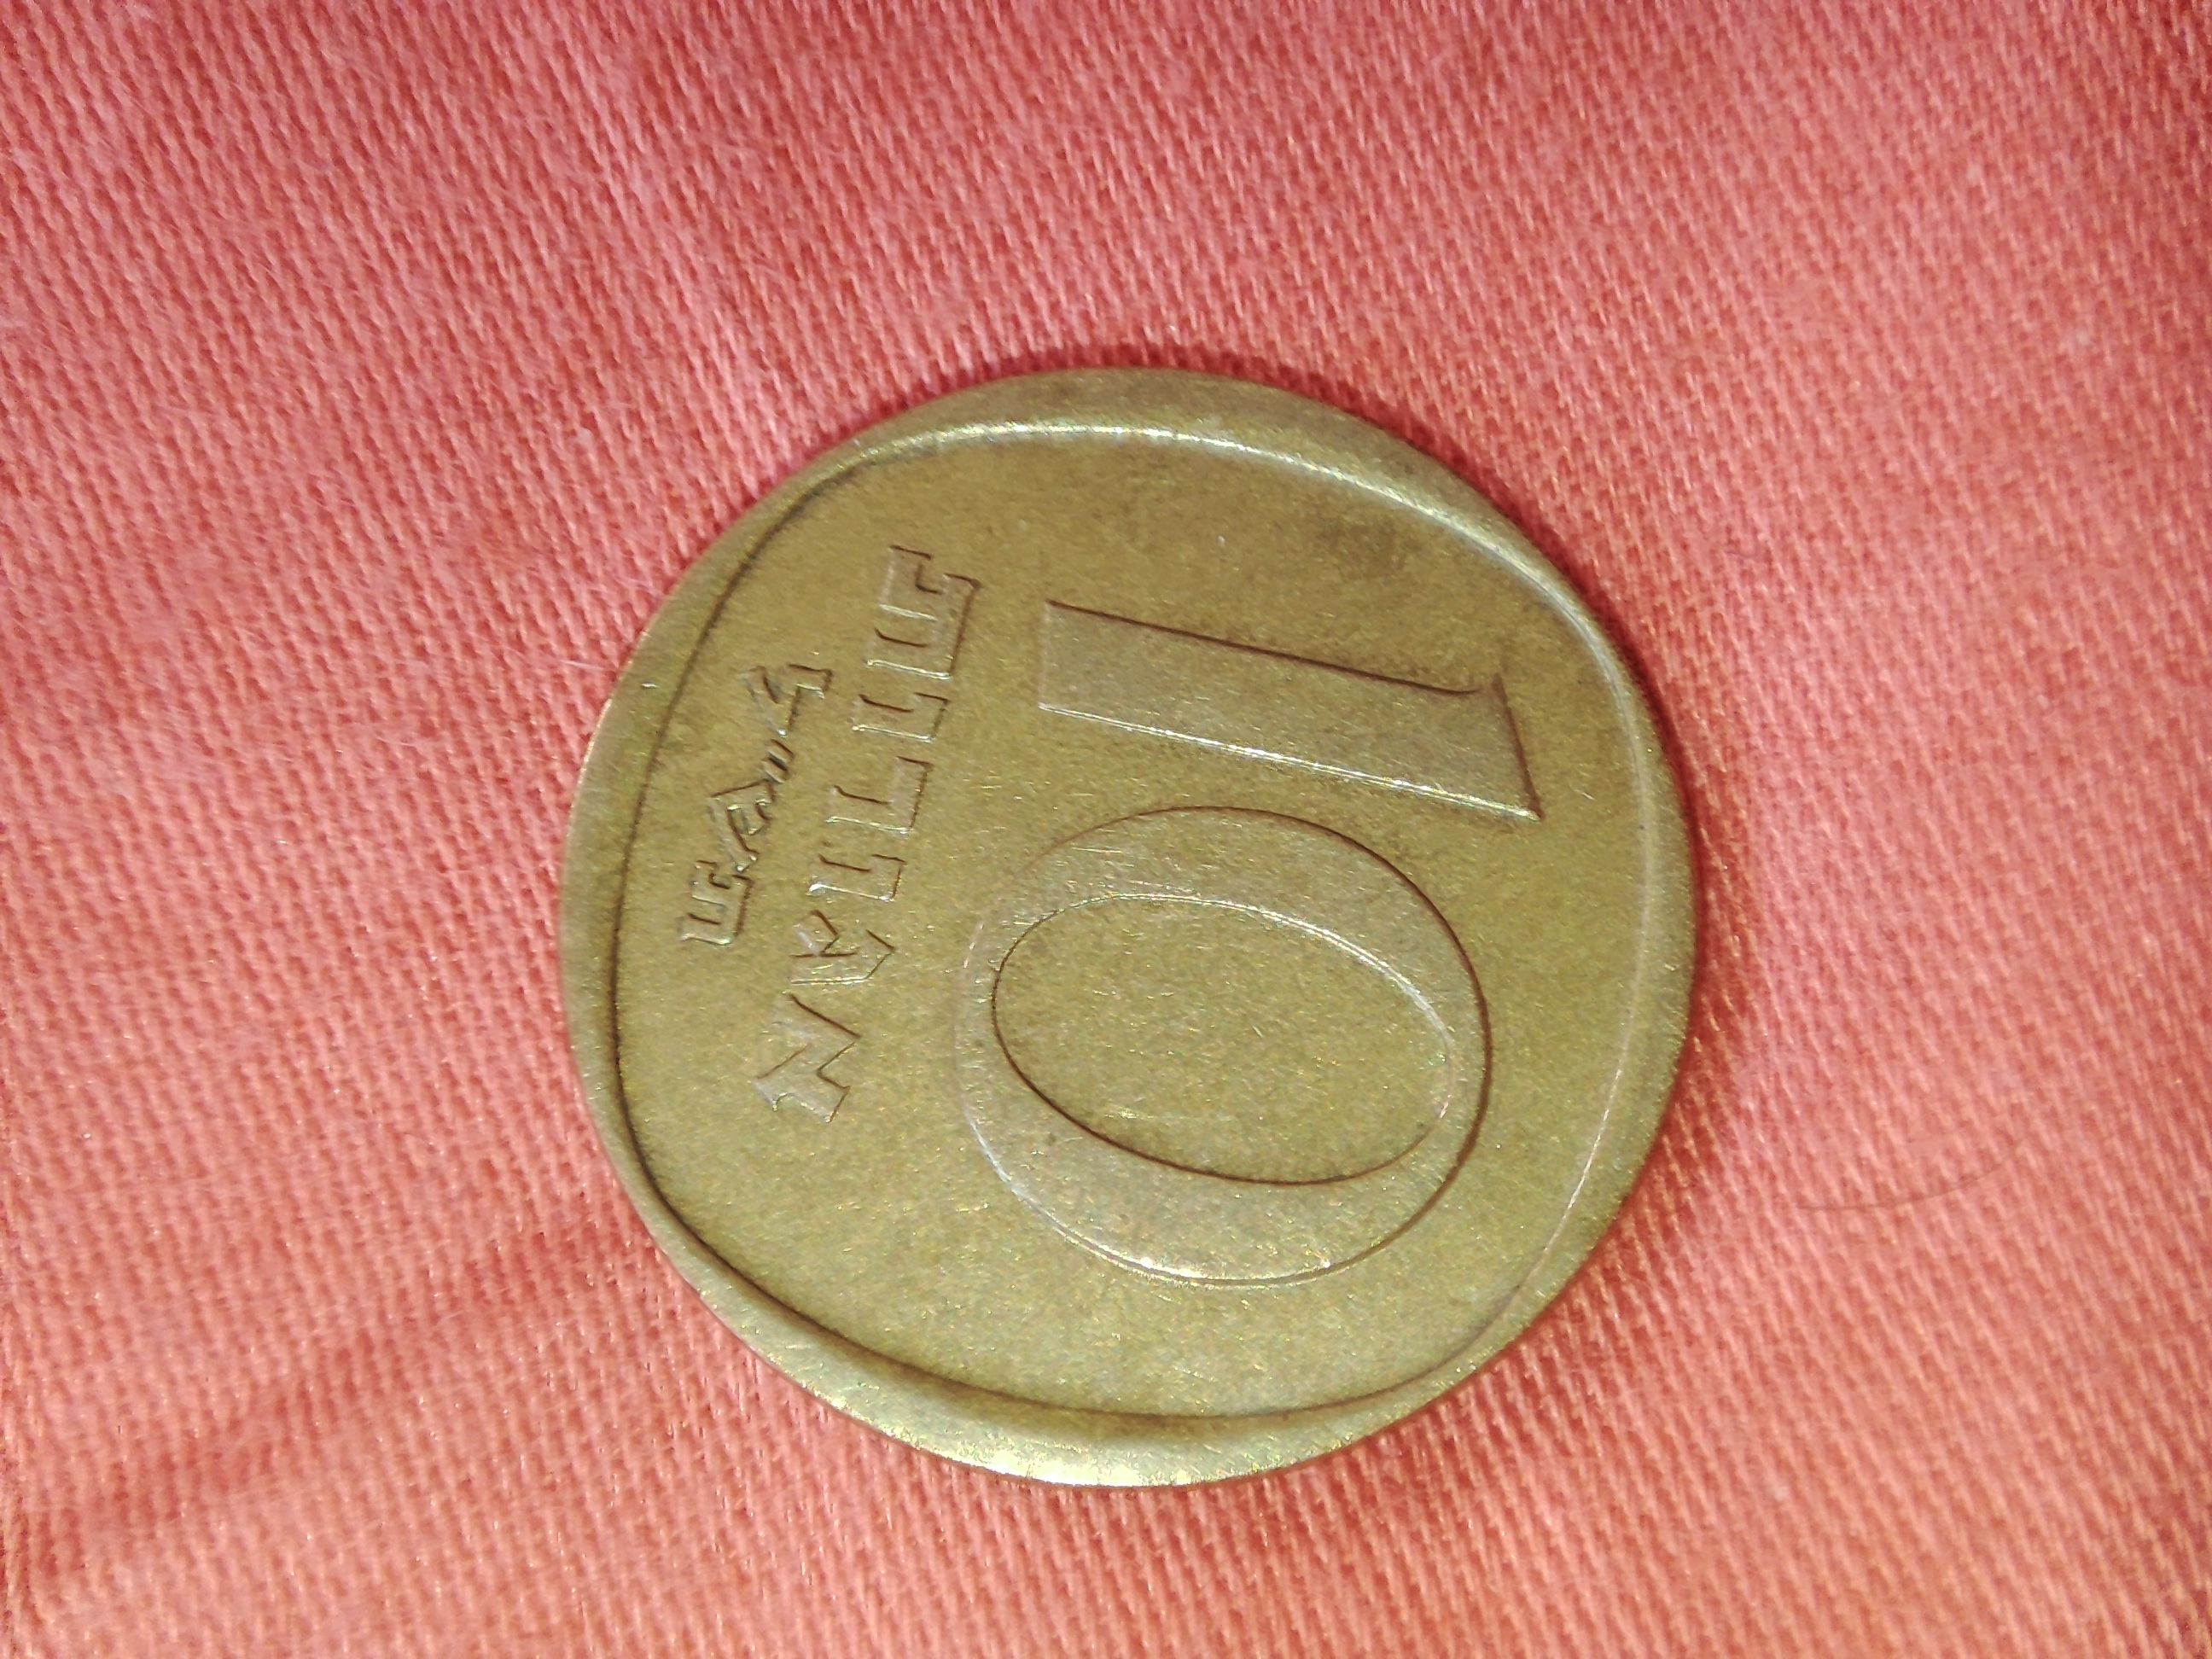10 old agora brown: (556, 357, 1719, 1511)
